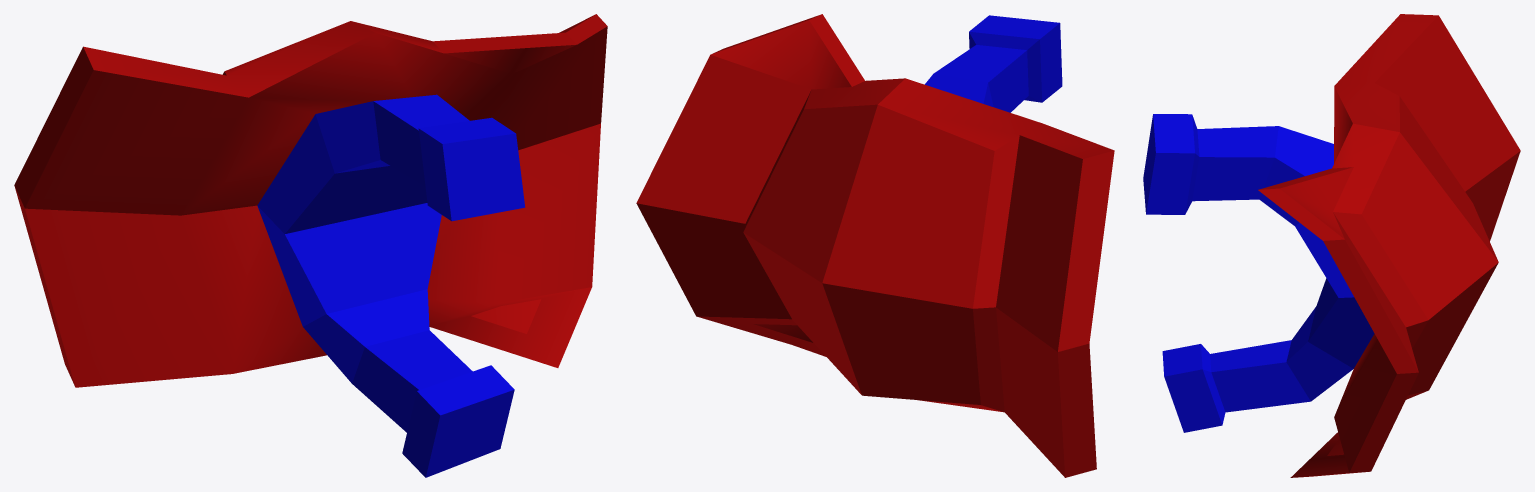
The model's file is Chr_ElbowAttachLeft_Static_01.fbx.
The picture shows the model from 3 angles, left to right: view 1: azimuth 30°, elevation 25°; view 2: azimuth 150°, elevation 25°; view 3: azimuth 270°, elevation 25°; orthographic projection. The views are drawn at different scales.
Parts seen in each view (by area): view 1: Chr_ElbowAttachLeft_01; view 2: Chr_ElbowAttachLeft_01; view 3: Chr_ElbowAttachLeft_01.
Part boxes in pixels (x1,y1,x2,y2): Chr_ElbowAttachLeft_01: (14,14,607,477); Chr_ElbowAttachLeft_01: (636,14,1114,477); Chr_ElbowAttachLeft_01: (1143,14,1520,477).
Bounding box in the file's own units: 18.39 × 12.28 × 13.35.
